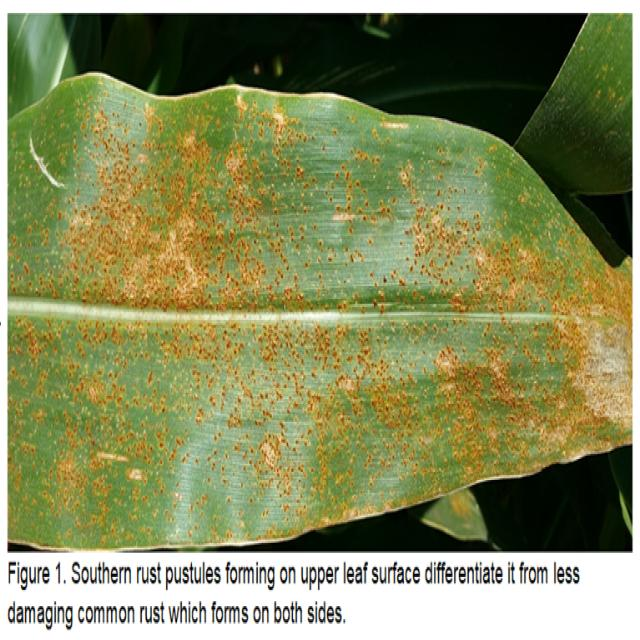leaf_rust: (3, 74, 632, 549)
